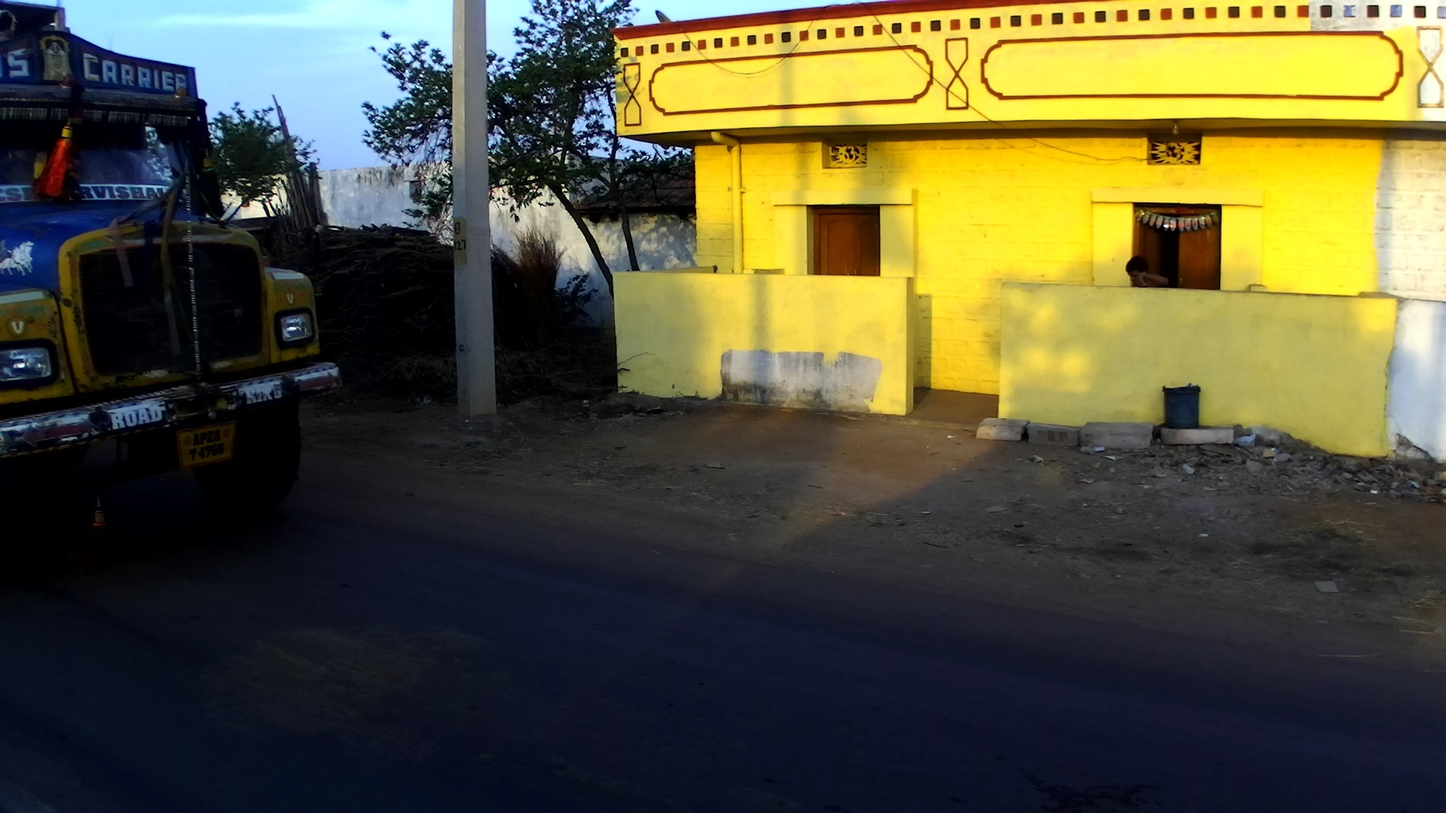person: (1125, 257, 1176, 293)
truck: (4, 1, 346, 562)
